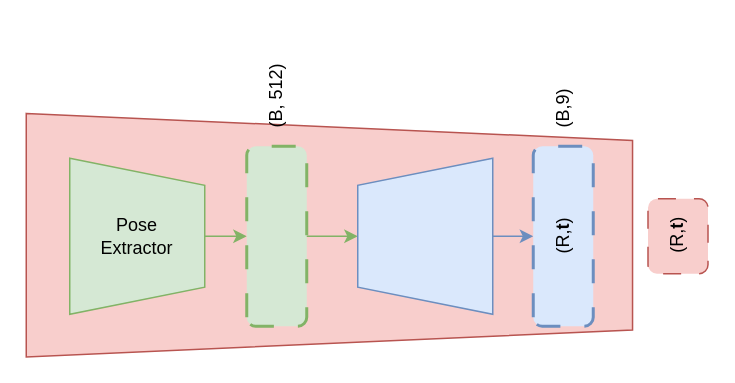
The diagram is 735 pixels wide and 383 high, and some of its shapes have lost their labels. Here are the shapes that lost their labels. From the top down, the box of each, then its label:
(244, 144, 308, 327): Rotation Code
(356, 157, 493, 314): Pose Generator
